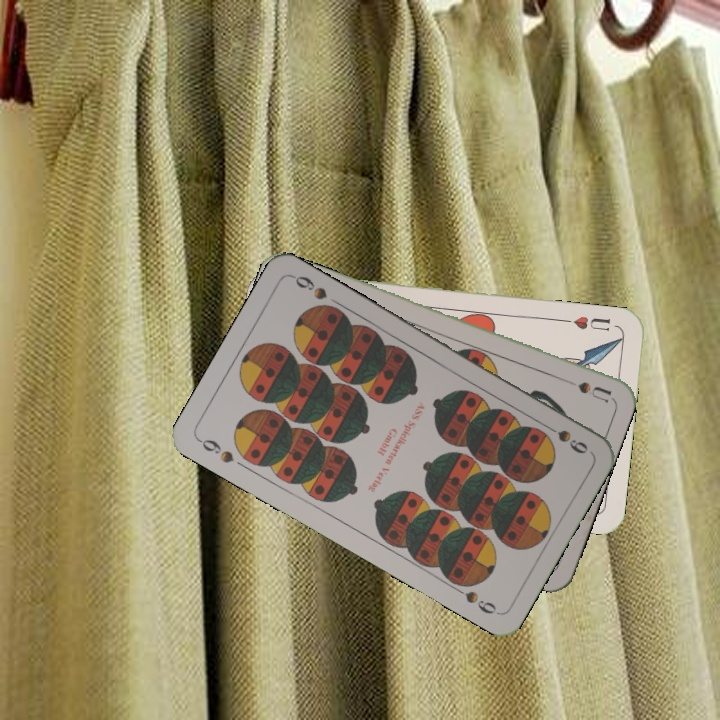HU: (560, 312, 613, 334)
S9: (538, 419, 591, 457), (194, 435, 237, 466)
SU: (573, 377, 613, 406)
